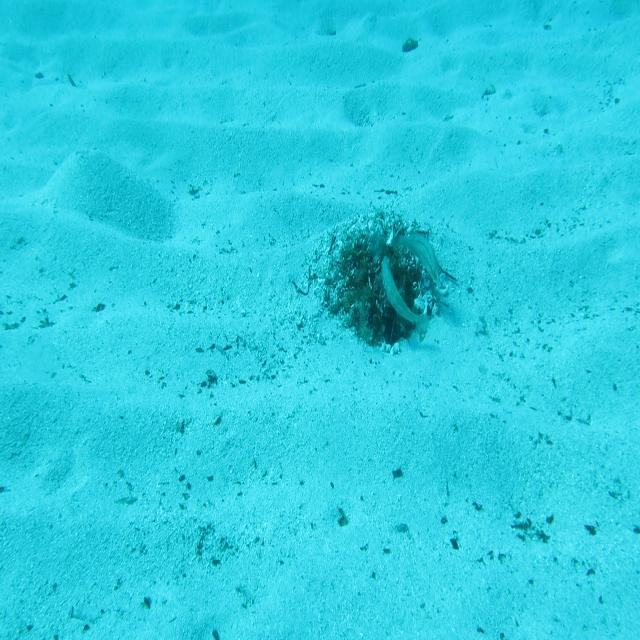DAN_CIRC: (379, 254, 432, 345)
female: (390, 224, 441, 286)
nest: (327, 212, 443, 355)
